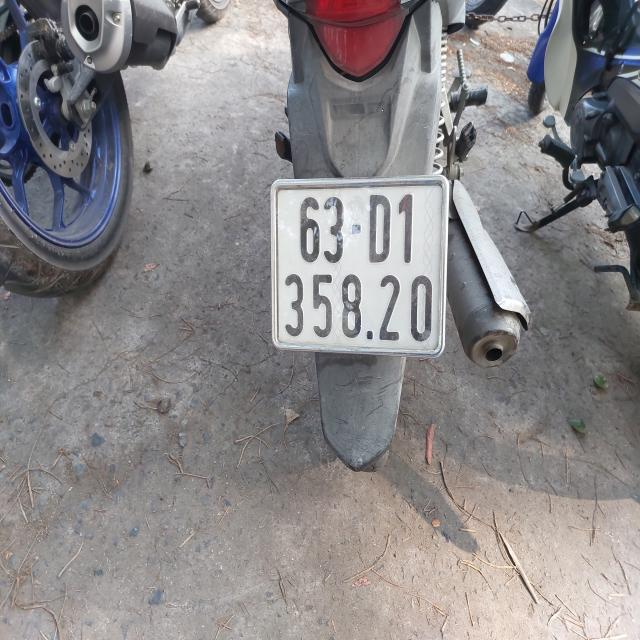0: (410, 274, 432, 341)
1: (396, 194, 412, 263)
2: (380, 276, 402, 343)
3: (324, 196, 344, 263), (284, 274, 304, 336)
5: (312, 273, 333, 339)
6: (301, 197, 321, 265)
8: (341, 274, 361, 338)
D: (370, 194, 391, 263)
